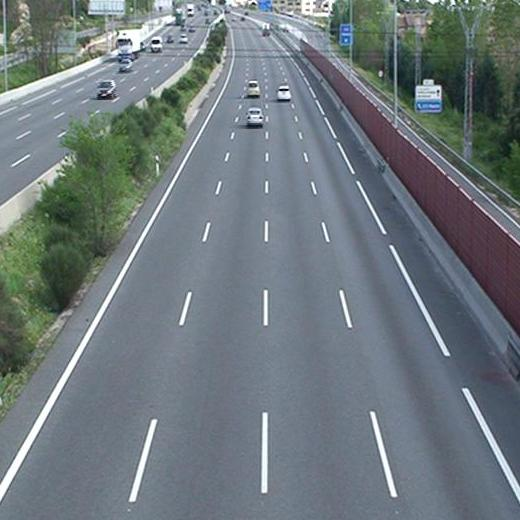car: (245, 108, 263, 127), (276, 84, 291, 101), (244, 81, 260, 95)
